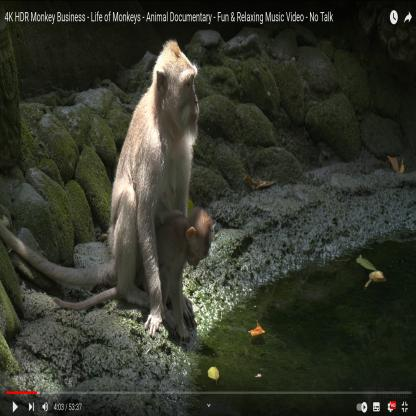monkey: (108, 37, 200, 340)
